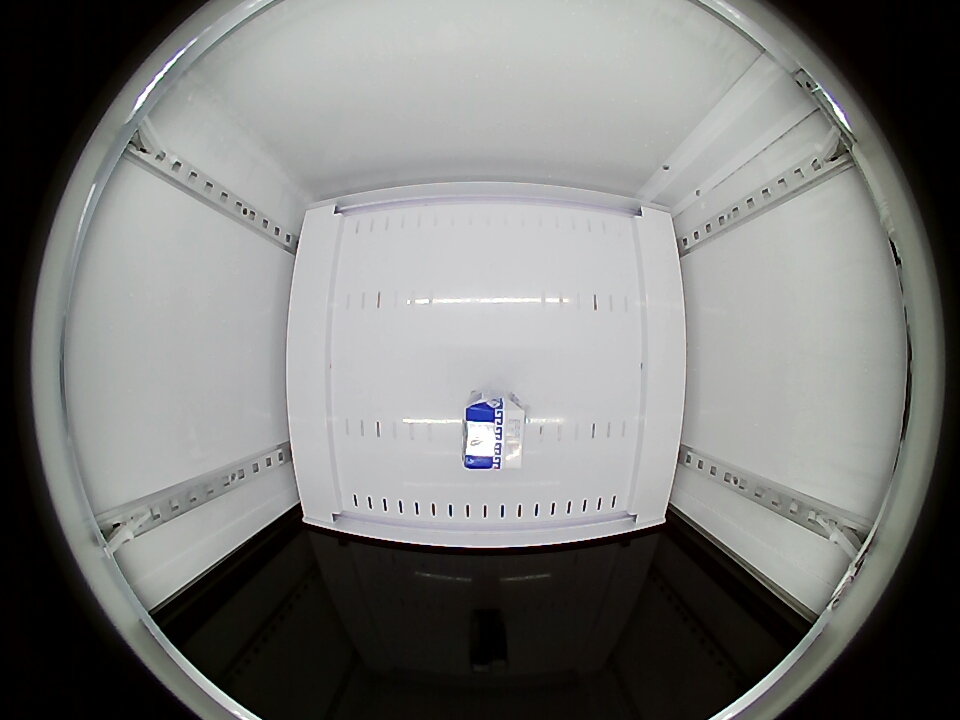anmuxi: (463, 396, 523, 470)
